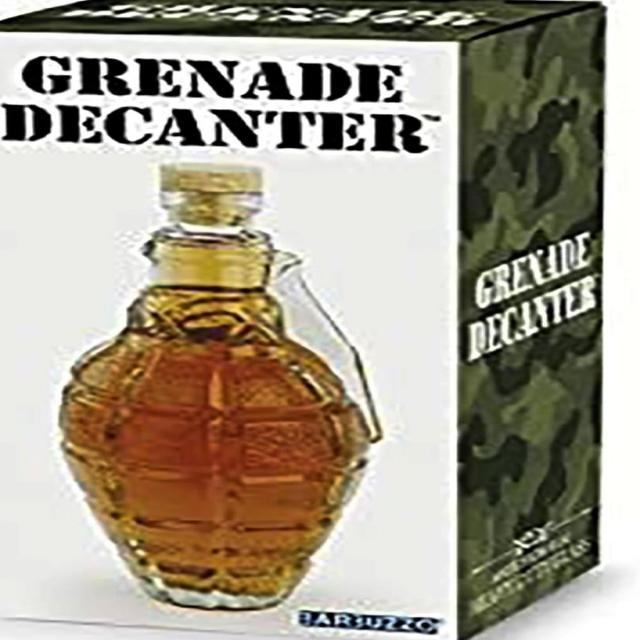grenade: (58, 234, 384, 612)
